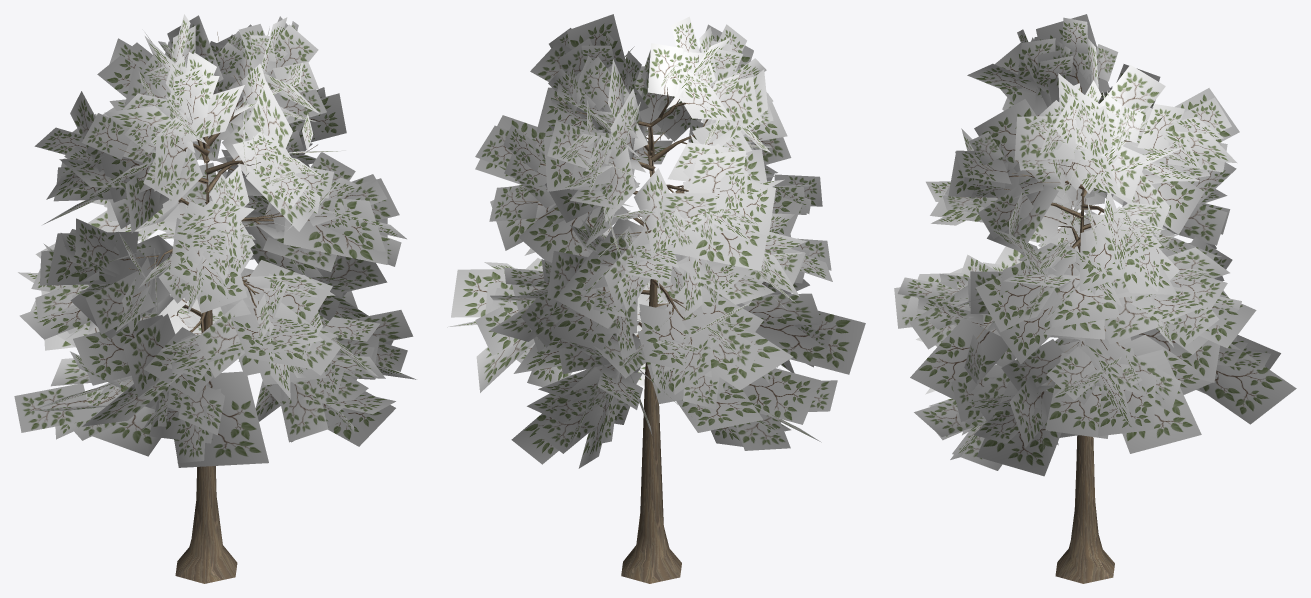
File: tree_c.glb
3 views of the same model, side by side, from view 1: azimuth 30°, elevation 25°; view 2: azimuth 150°, elevation 25°; view 3: azimuth 270°, elevation 25° (orthographic). The views are drawn at different scales.
Visible parts, largest first — view 1: Complete_Tree_1B2; view 2: Complete_Tree_1B2; view 3: Complete_Tree_1B2.
Boxes of the visible parts, x1,y1,x2,y2 form: Complete_Tree_1B2: (14, 14, 416, 583); Complete_Tree_1B2: (447, 14, 865, 583); Complete_Tree_1B2: (894, 14, 1296, 583).
Size of the model in its own units: 13.51 by 20.21 by 13.67.
Materials: 2 (2 with a texture image).
